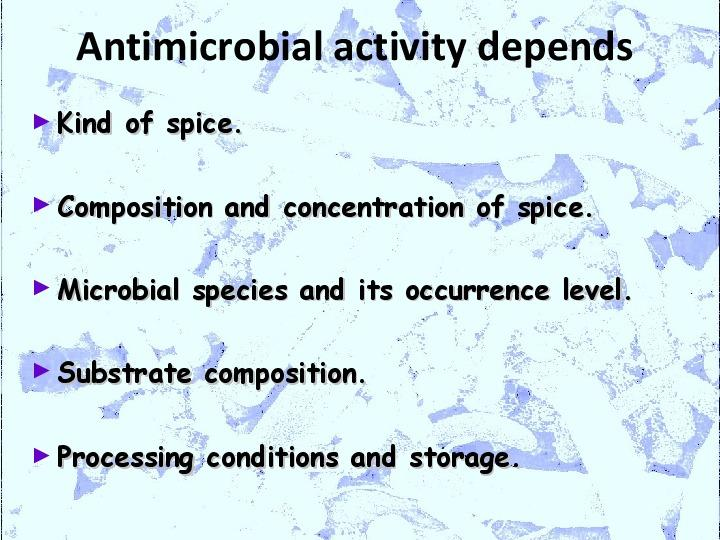paragraph: (20, 96, 708, 500)
title: (65, 17, 651, 85)
